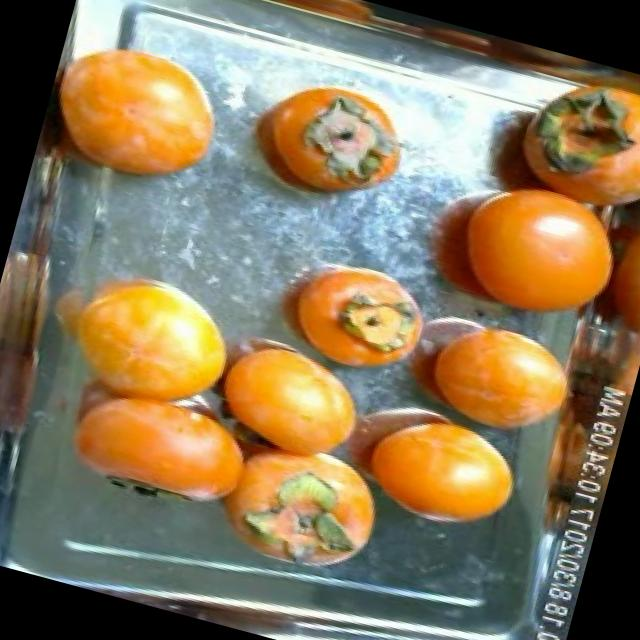Fruit: (29, 238, 264, 432), (29, 19, 248, 215), (371, 296, 592, 459), (327, 388, 540, 555), (223, 61, 426, 230), (246, 234, 454, 394), (182, 326, 386, 479)
